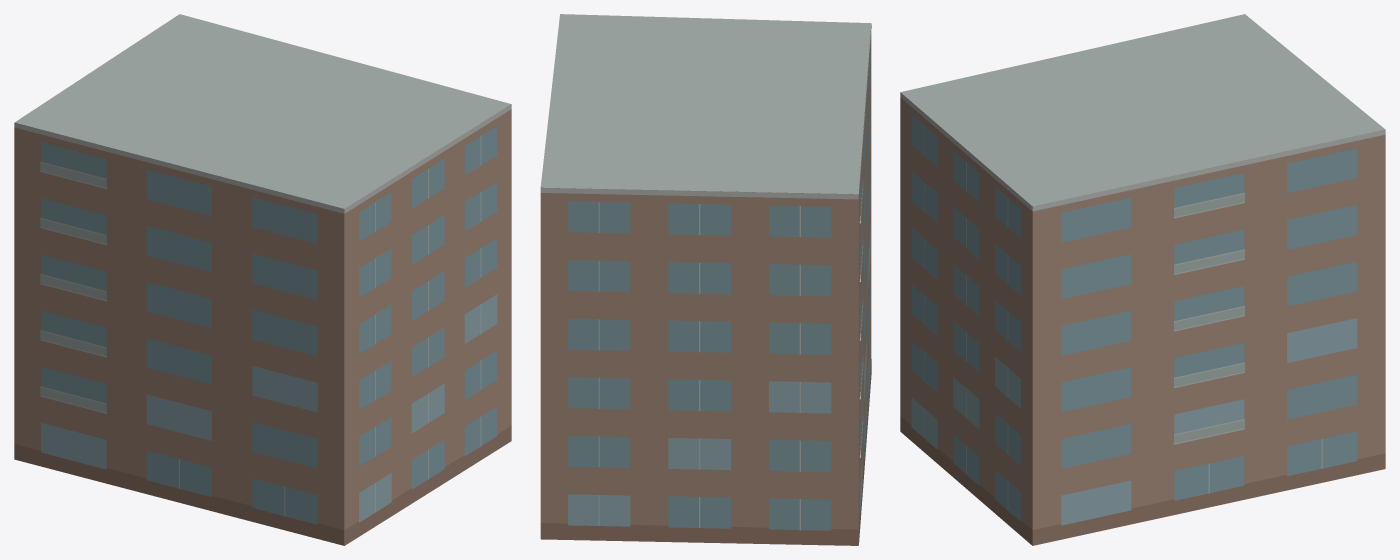
File: survey-upis-32729275.glb
3 renders of one model, left to right at view 1: azimuth 30°, elevation 25°; view 2: azimuth 150°, elevation 25°; view 3: azimuth 270°, elevation 25°, orthographic. The views are drawn at different scales.
Parts seen in each view (by area): view 1: survey-upis-32729275.tmp; view 2: survey-upis-32729275.tmp; view 3: survey-upis-32729275.tmp.
Part boxes in pixels (x1,y1,x2,y2): survey-upis-32729275.tmp: (14,14,511,545); survey-upis-32729275.tmp: (540,14,871,545); survey-upis-32729275.tmp: (900,14,1385,545).
Bounding box in the file's own units: 20.08 × 16.5 × 21.39.
